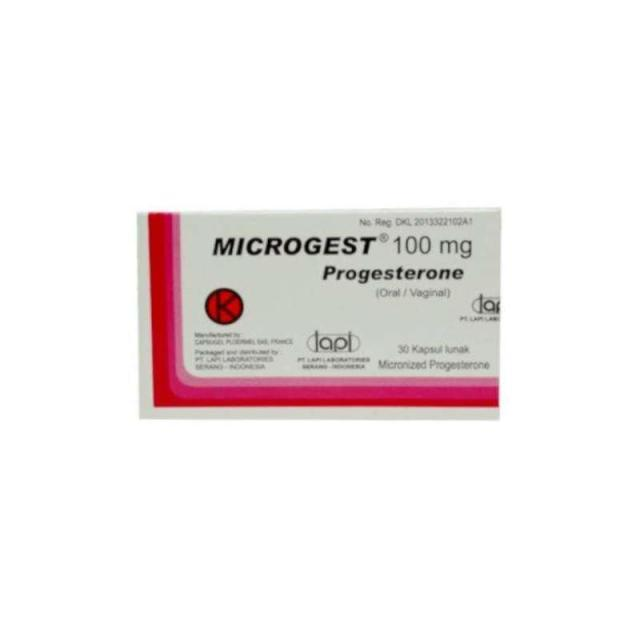drug-name: (212, 234, 376, 258)
